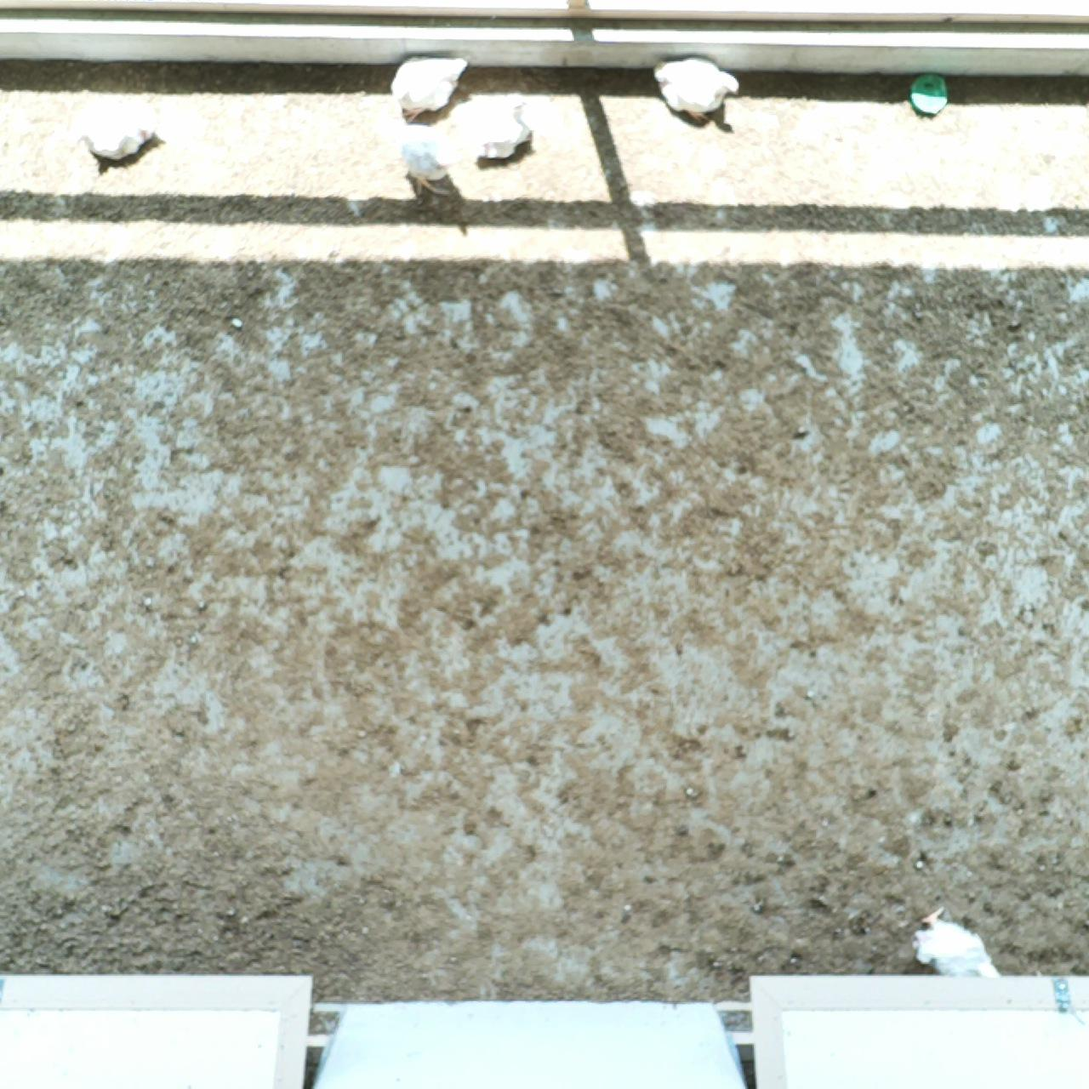chicken: (907, 901, 1004, 982), (650, 48, 745, 126), (385, 50, 471, 127), (71, 96, 163, 166), (386, 119, 463, 202), (464, 85, 536, 168)
